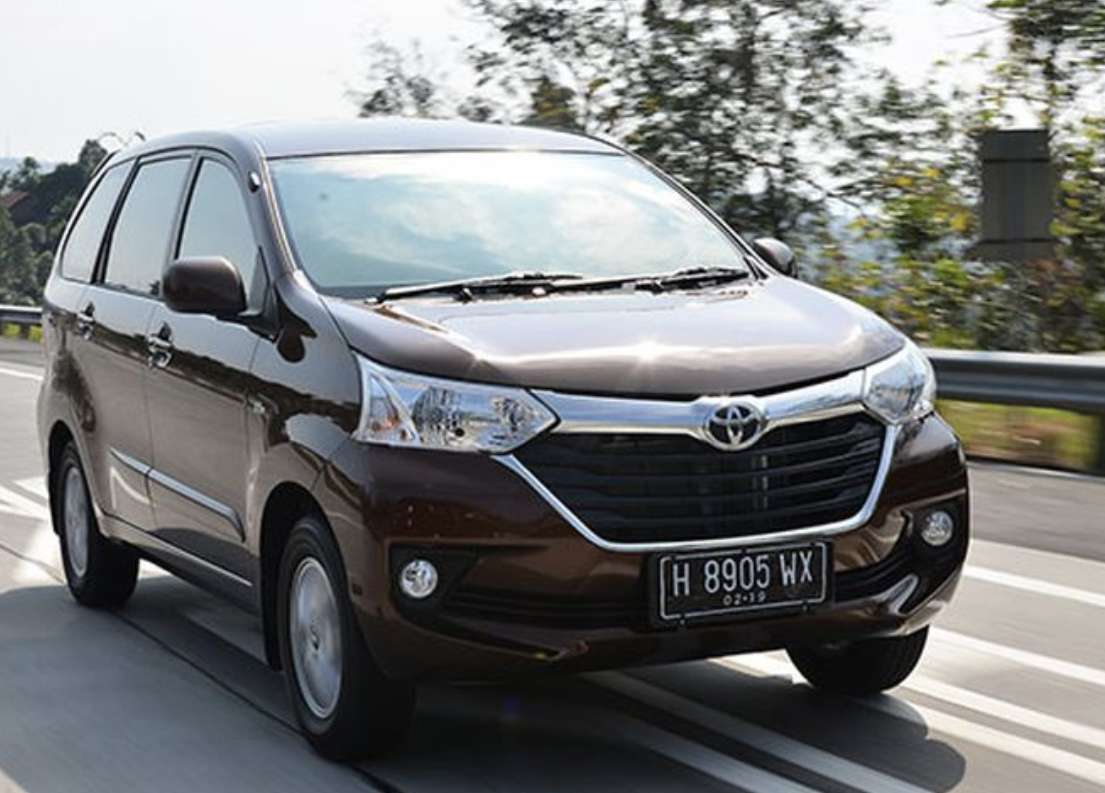Mobil: (644, 539, 840, 641)
Motor: (32, 86, 968, 771)
